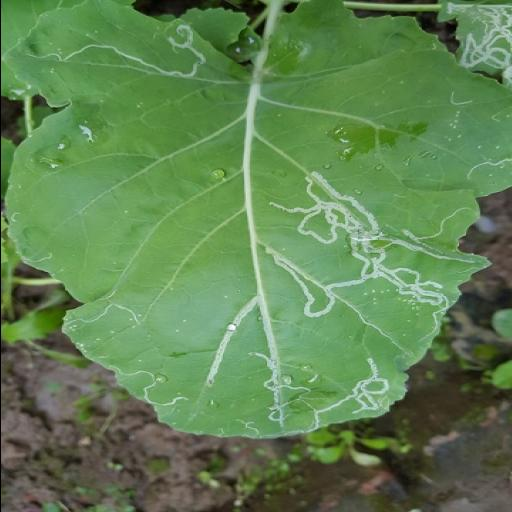Leaf Miner: (0, 0, 512, 438)
